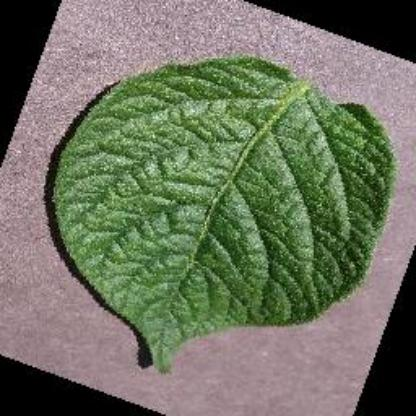Healthy-plant: (44, 27, 392, 415)
